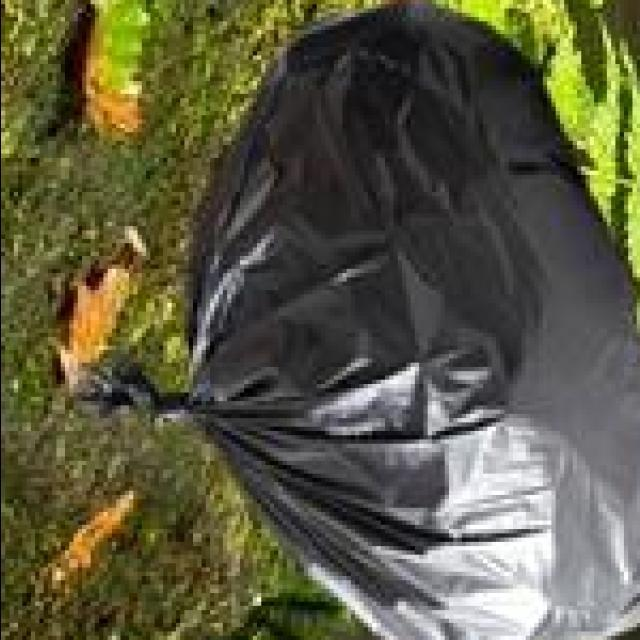Trashbag: (83, 7, 636, 640)
